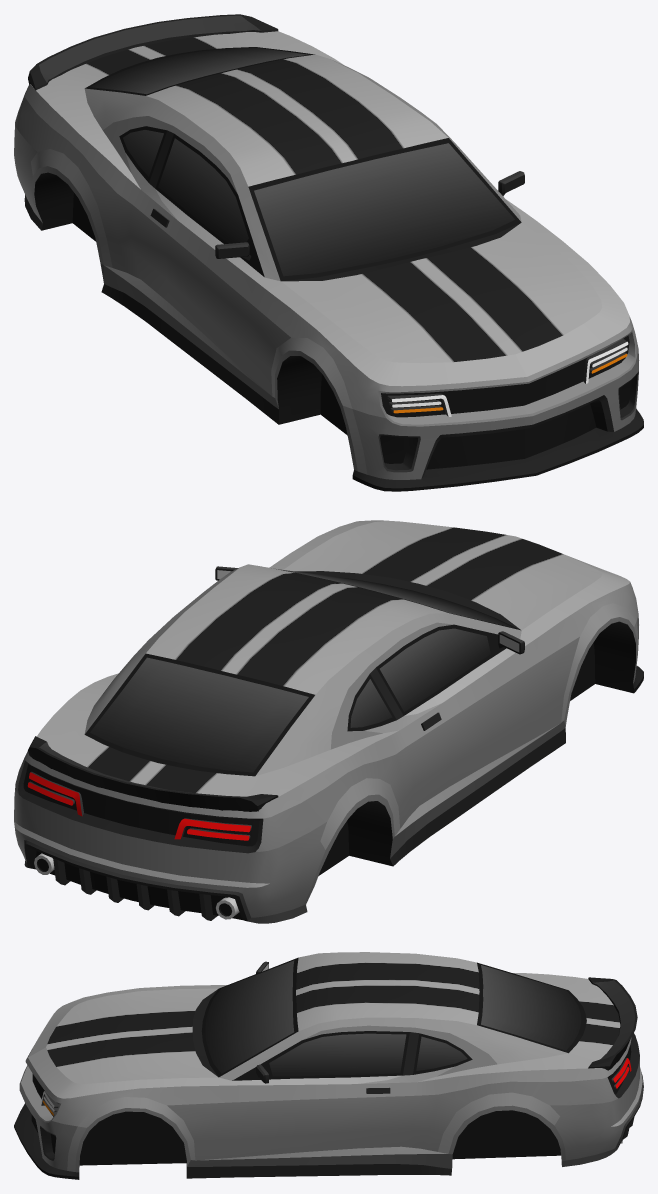
The model's file is WhiteCar.fbx.
3 renders of one model, top to bottom at view 1: azimuth 30°, elevation 25°; view 2: azimuth 150°, elevation 25°; view 3: azimuth 270°, elevation 25°, orthographic. The views are drawn at different scales.
Parts seen in each view (by area): view 1: Body, Spoiler; view 2: Body, Spoiler; view 3: Body, Spoiler.
Boxes of the visible parts, <box> form: Body: <box>14,31,643,491</box>; Spoiler: <box>28,14,278,90</box>; Body: <box>14,520,643,923</box>; Spoiler: <box>28,736,278,811</box>; Body: <box>14,952,643,1179</box>; Spoiler: <box>588,977,637,1070</box>.
Size of the model in its own units: 4.12 by 2.46 by 9.64.
Materials: 3 (3 with a texture image).
